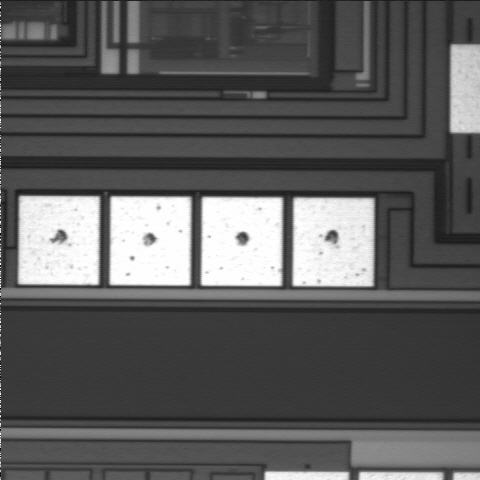pad: (18, 196, 100, 285), (201, 197, 283, 286), (110, 196, 191, 286), (293, 198, 374, 286)
